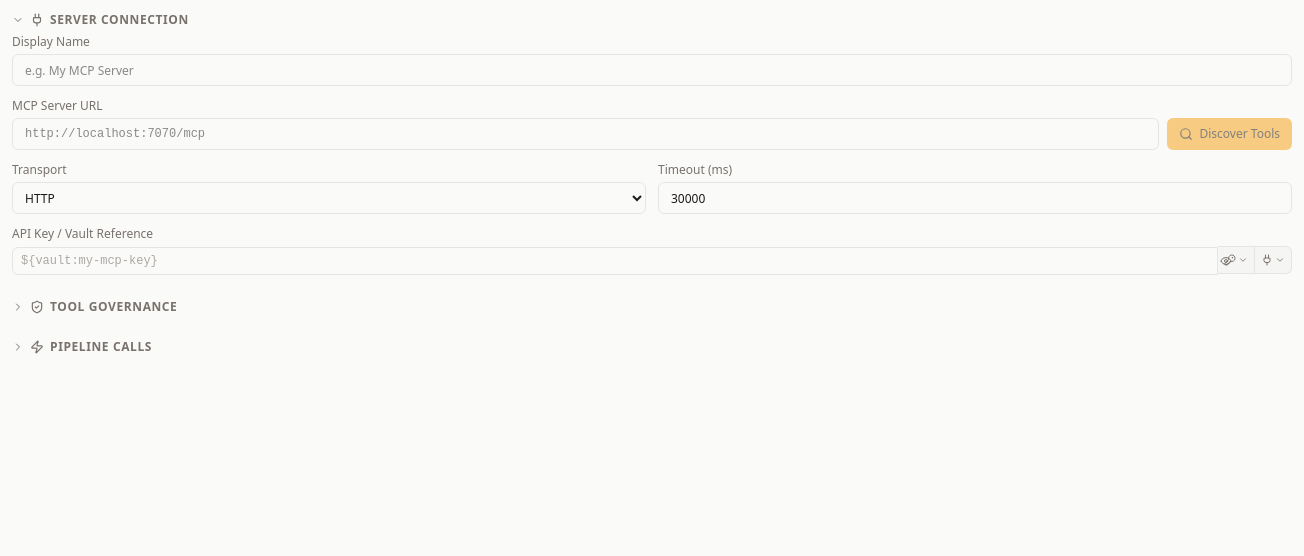
Test case: McpCallsEditor › expands Tool Governance to see governance hint
// Click to expand Tool Governance section
Click the button "Tool Governance": point(95, 307) [12,299,177,315]
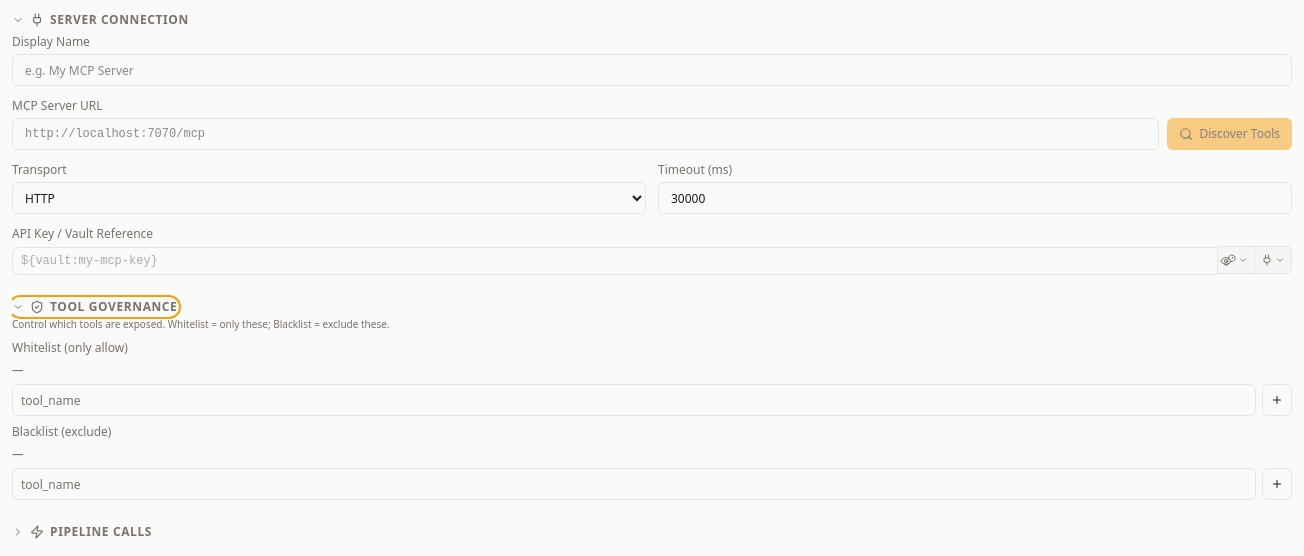
Now the text "which tools are exposed" is shown, box [12,317,390,331]
